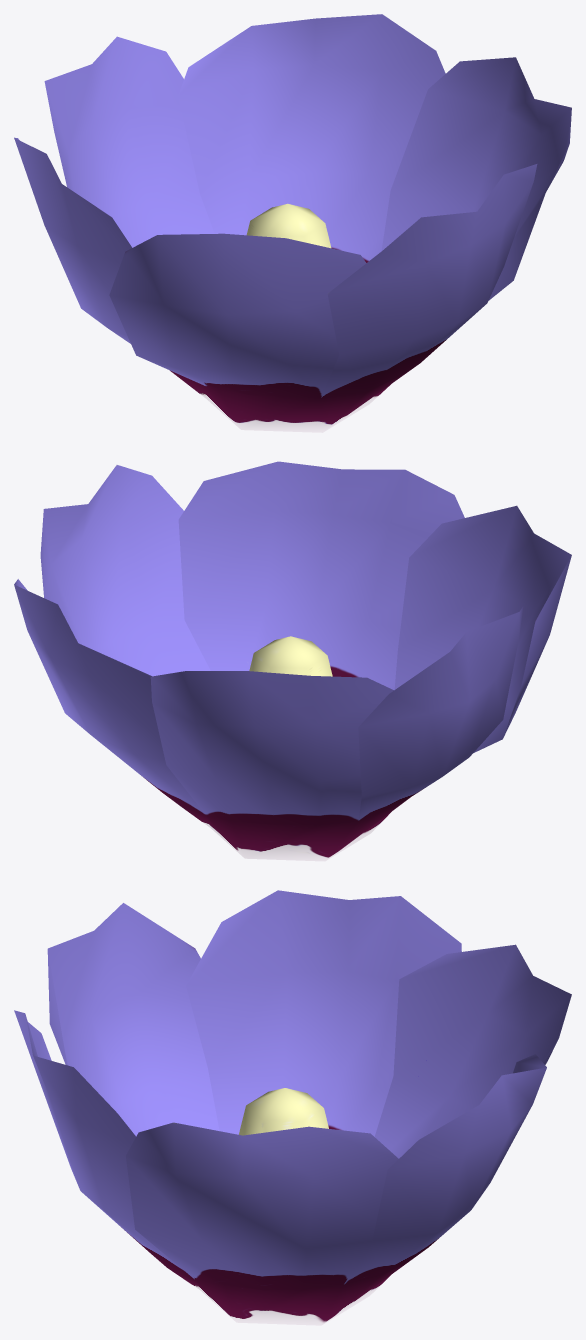
The model's file is Blue Hibiscus.gltf.
3 views of the same model, one above another, from view 1: azimuth 30°, elevation 25°; view 2: azimuth 150°, elevation 25°; view 3: azimuth 270°, elevation 25° (orthographic). The views are drawn at different scales.
Parts seen in each view (by area): view 1: Cone.001; view 2: Cone.001; view 3: Cone.001.
Part boxes in pixels (<box>): Cone.001: <box>14,14,571,432</box>; Cone.001: <box>14,461,571,861</box>; Cone.001: <box>14,890,571,1325</box>.
Bounding box in the file's own units: 0.2299 × 0.1299 × 0.2281.
1 material, 1 textured.
